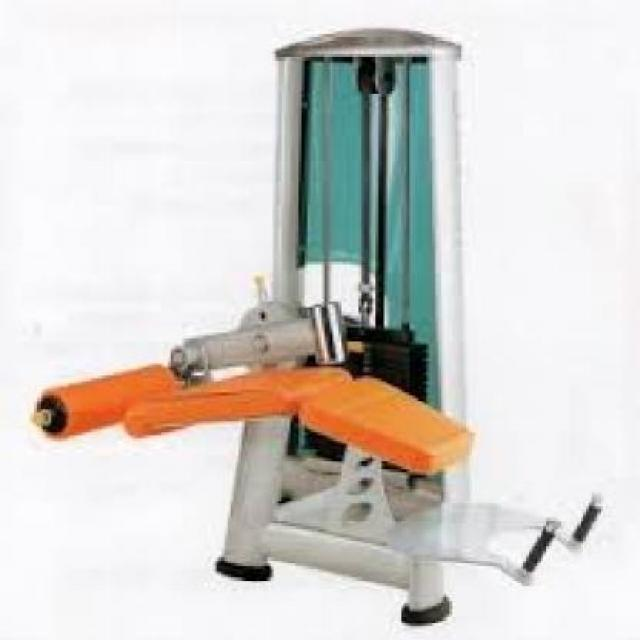reg curl machine: (32, 29, 605, 631)
